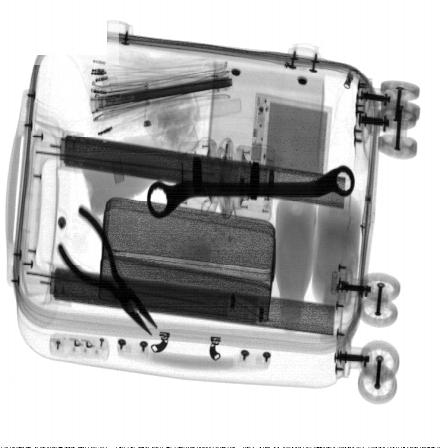Pliers: (55, 203, 159, 337)
Powerbank: (250, 94, 334, 182)
Wrench: (144, 165, 357, 221)
